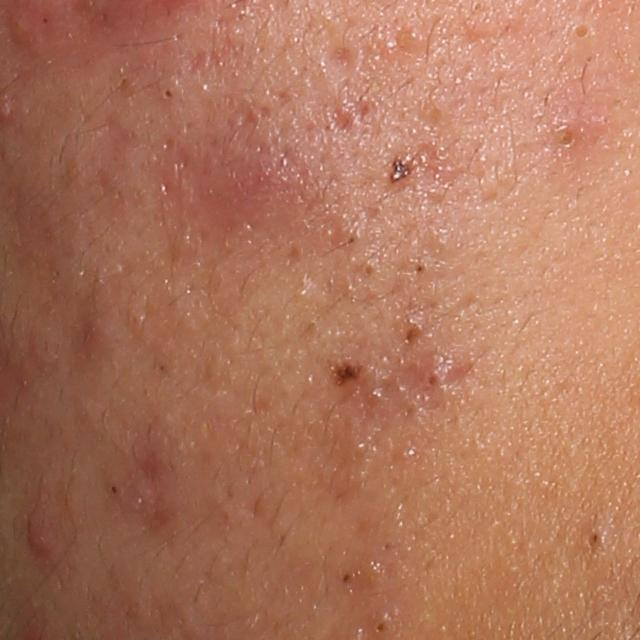atrophic_scar: (136, 450, 172, 523), (320, 41, 367, 86), (325, 101, 363, 138), (441, 359, 475, 391)
comedo: (546, 123, 582, 157), (387, 321, 423, 355), (415, 361, 448, 397), (567, 15, 598, 49), (400, 24, 429, 54), (407, 256, 435, 287), (355, 258, 380, 286), (584, 526, 606, 556), (340, 227, 360, 252), (104, 478, 129, 498), (333, 568, 356, 587)
nevus: (383, 148, 421, 188), (327, 355, 366, 386)
papule: (23, 507, 59, 564)
